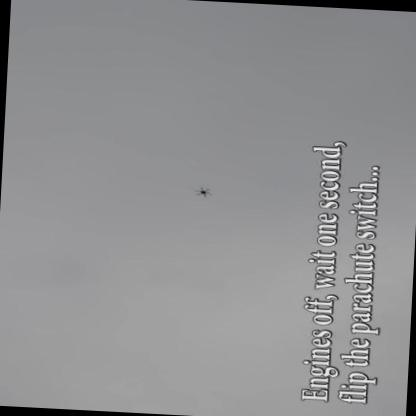drone: (187, 181, 214, 199)
